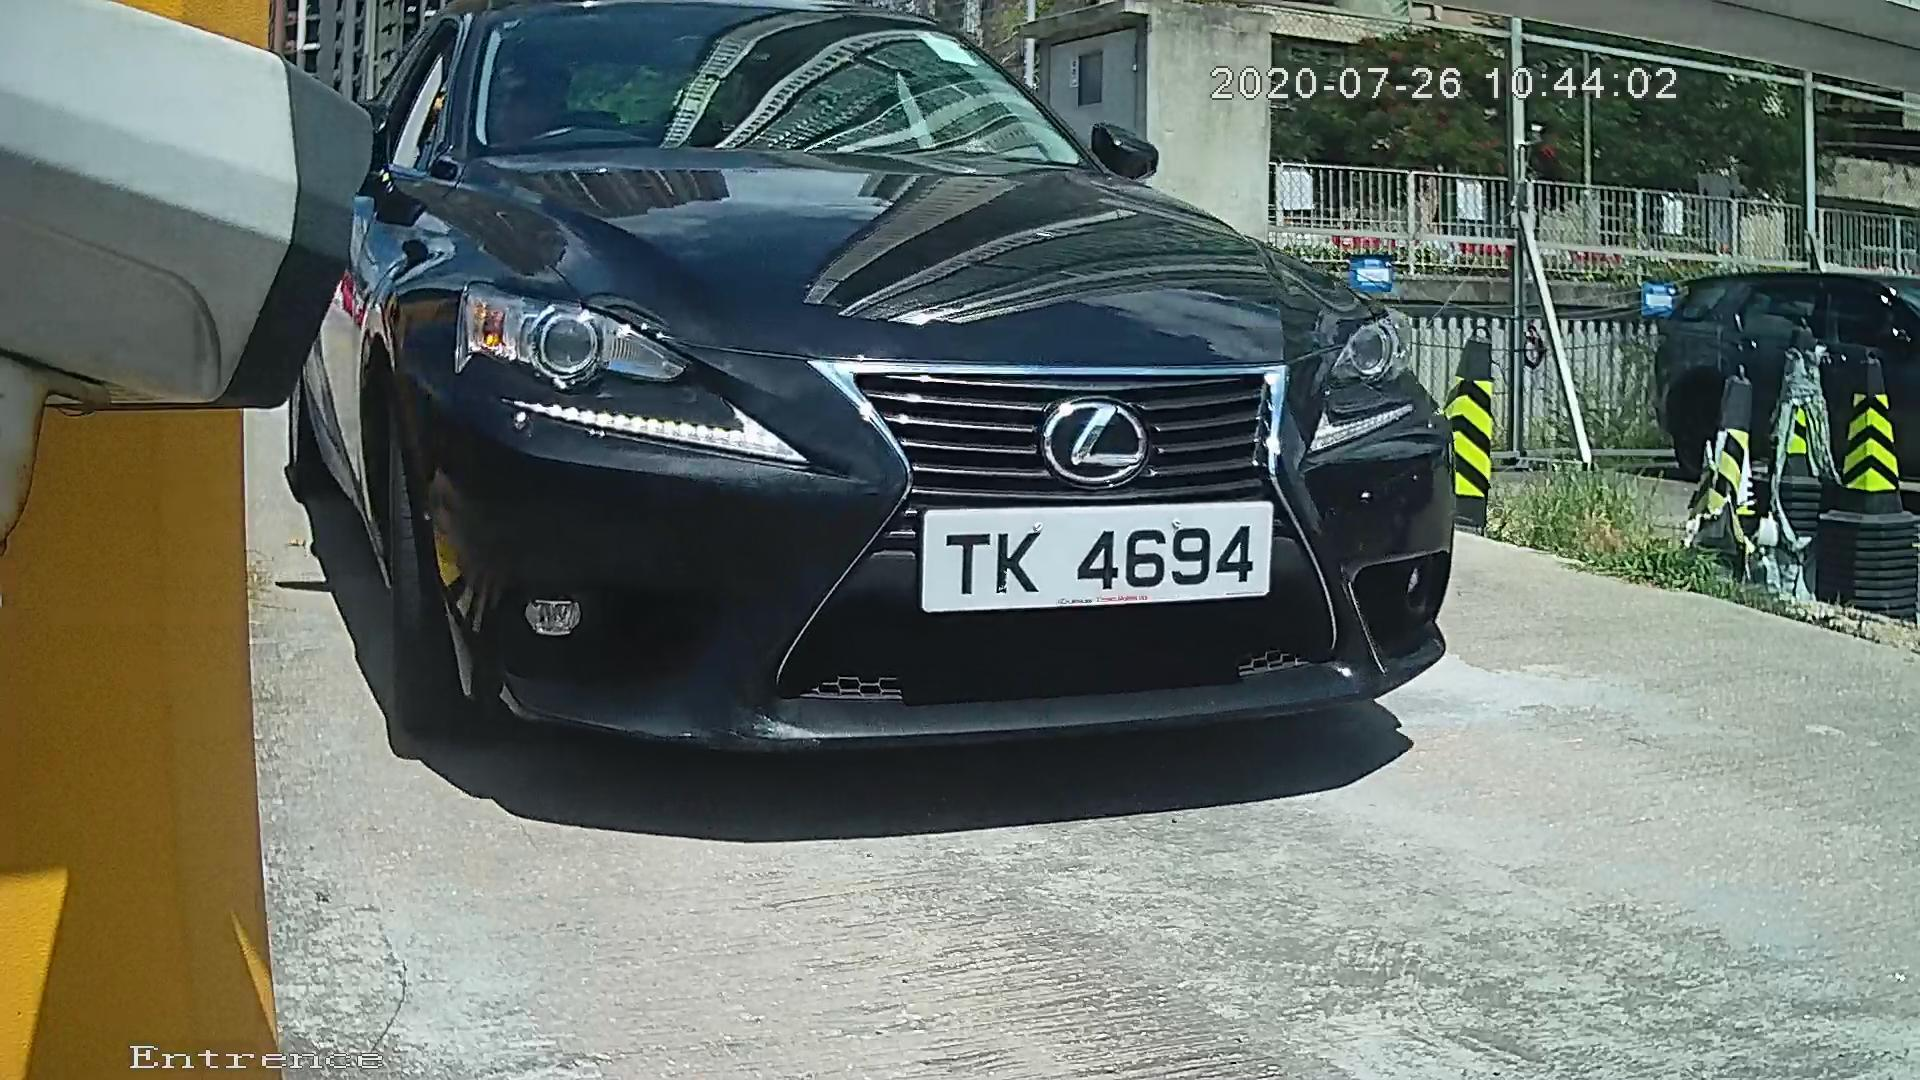privatecar: (206, 20, 1586, 806)
